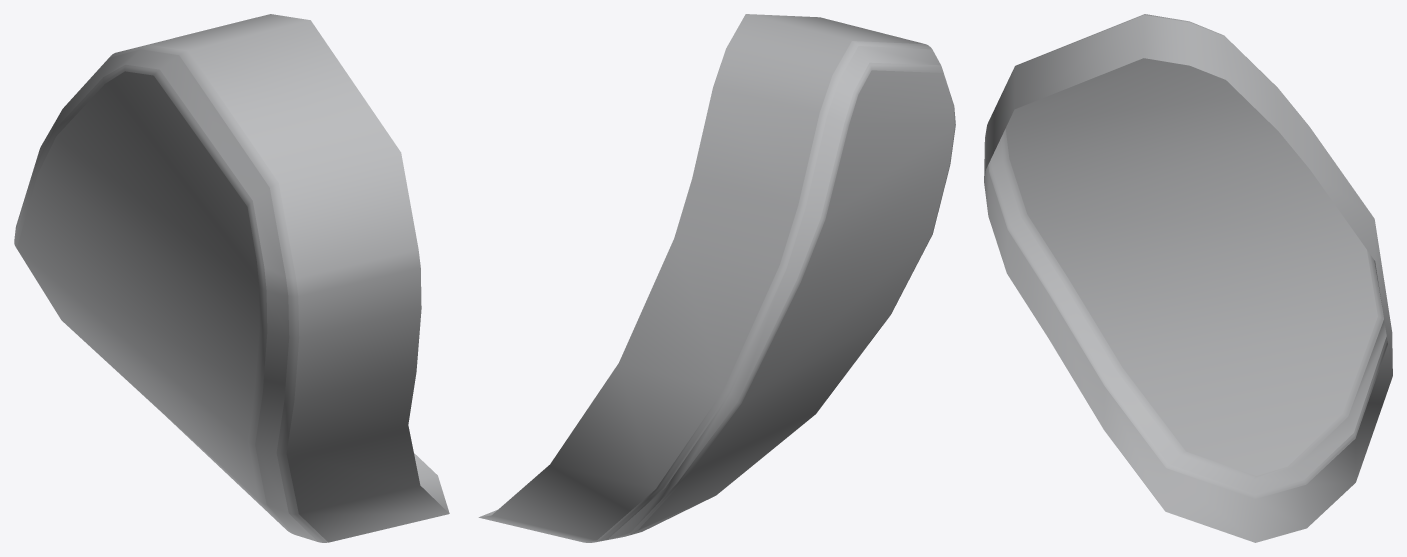
Rendered from button_grip.obj.
3 views of the same model, side by side, from view 1: azimuth 30°, elevation 25°; view 2: azimuth 150°, elevation 25°; view 3: azimuth 270°, elevation 25° (orthographic). The views are drawn at different scales.
Parts seen in each view (by area): view 1: button_grip; view 2: button_grip; view 3: button_grip.
Boxes of the visible parts, left/top/right/bottom form: button_grip: left=14, top=14, right=449, bottom=542; button_grip: left=478, top=14, right=955, bottom=542; button_grip: left=984, top=14, right=1392, bottom=542.
Size of the model in its own units: 0.0136 by 0.0194 by 0.0175.
Materials: 1 (1 with a texture image).
